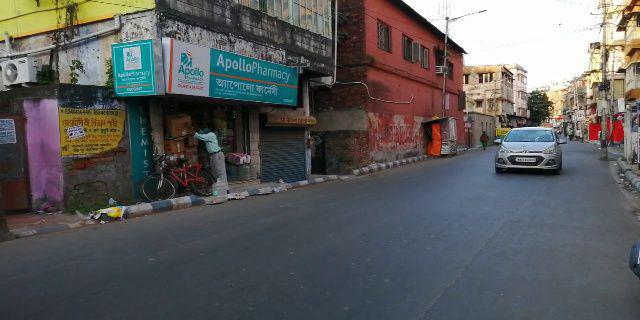Car: (490, 123, 566, 181)
Cycle: (139, 152, 217, 201)
